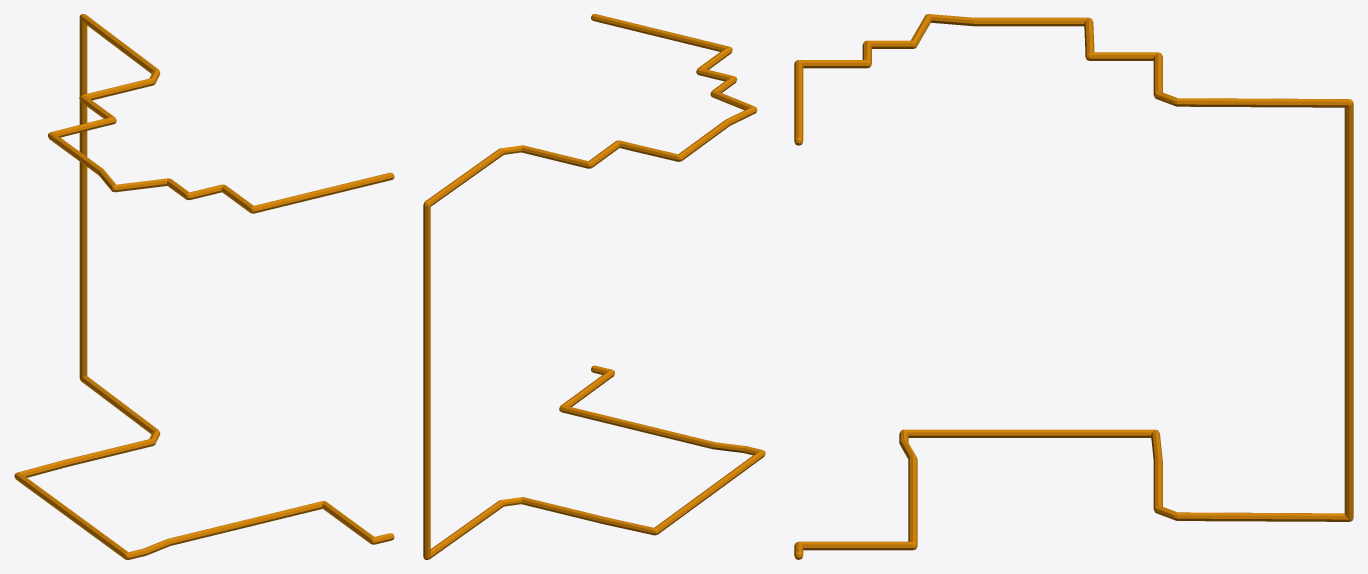
3 renders of one model, left to right at view 1: azimuth 30°, elevation 25°; view 2: azimuth 150°, elevation 25°; view 3: azimuth 270°, elevation 25°, orthographic. The views are drawn at different scales.
Bounding box in the file's own units: 658 × 1020 × 1224.
